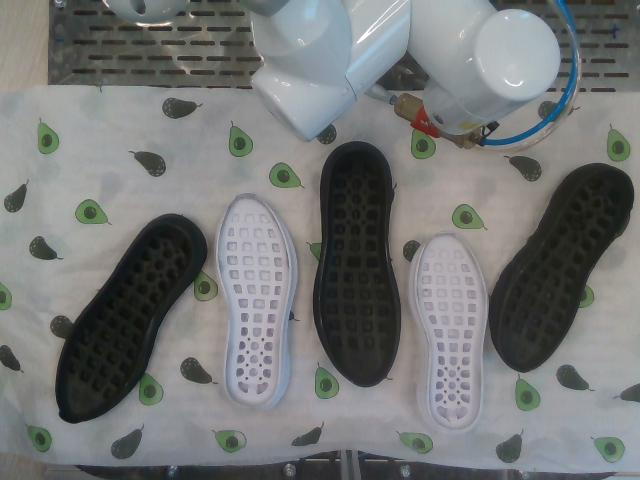shoes: (57, 224, 193, 422), (500, 169, 633, 371), (320, 150, 397, 385), (218, 193, 289, 407), (417, 232, 486, 430)
